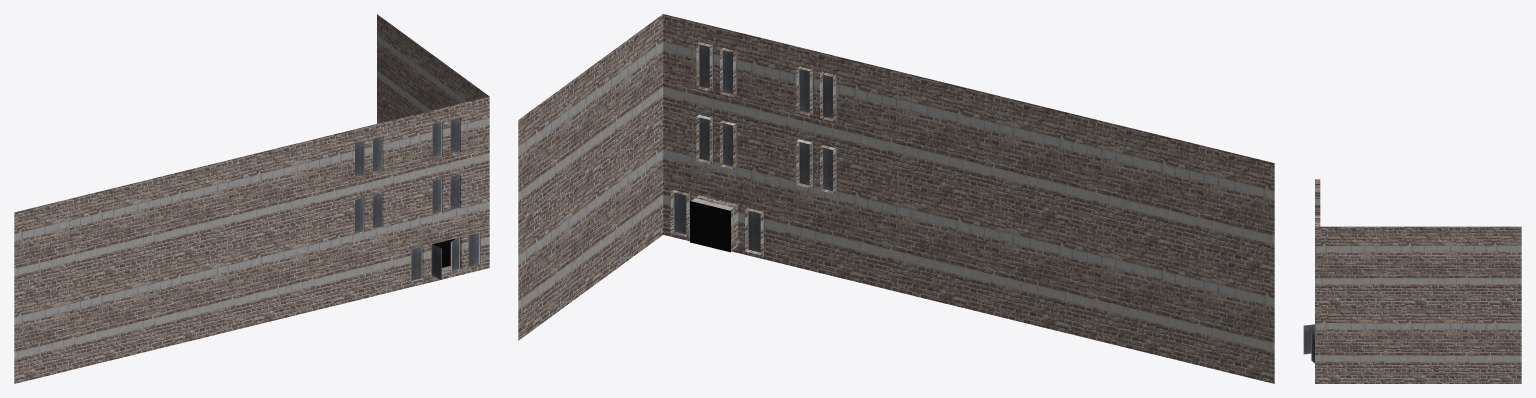
File: building_n1.FBX
The picture shows the model from 3 angles, left to right: view 1: azimuth 30°, elevation 25°; view 2: azimuth 150°, elevation 25°; view 3: azimuth 270°, elevation 25°; orthographic projection. The views are drawn at different scales.
Visible parts, largest first — view 1: Box005, Plane004; view 2: Box005, Plane004, Object001; view 3: Box005, Plane004.
Part boxes in pixels (bbox=[...]): Box005: bbox=[14, 14, 489, 383]; Plane004: bbox=[355, 118, 480, 280]; Box005: bbox=[518, 14, 1274, 383]; Plane004: bbox=[672, 40, 836, 257]; Object001: bbox=[690, 201, 730, 252]; Box005: bbox=[1315, 179, 1521, 383]; Plane004: bbox=[1303, 324, 1314, 363].
Size of the model in its own units: 1169 by 403 by 507.
